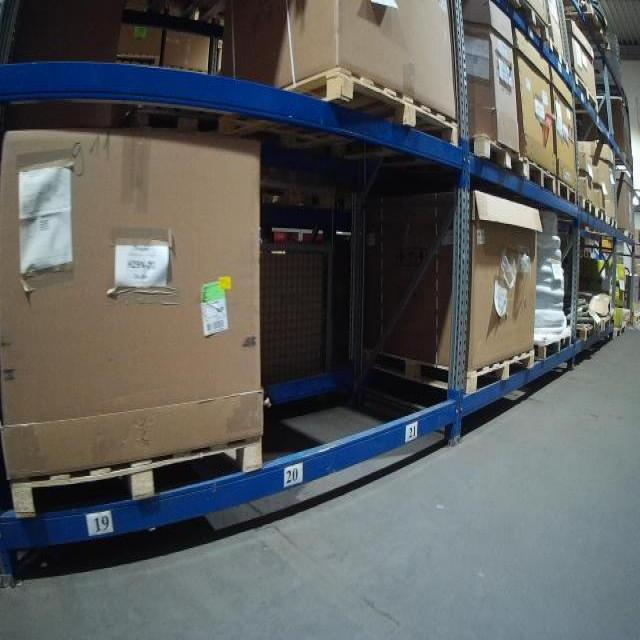pallet: (220, 65, 463, 164), (13, 434, 267, 522), (357, 343, 536, 397), (469, 128, 527, 182), (510, 0, 550, 46), (524, 158, 557, 197), (534, 330, 571, 362), (574, 73, 599, 115), (548, 38, 570, 75), (556, 176, 578, 209), (579, 194, 598, 218), (600, 314, 614, 334), (597, 208, 608, 223), (608, 215, 619, 229)
stillage: (255, 220, 350, 395)
